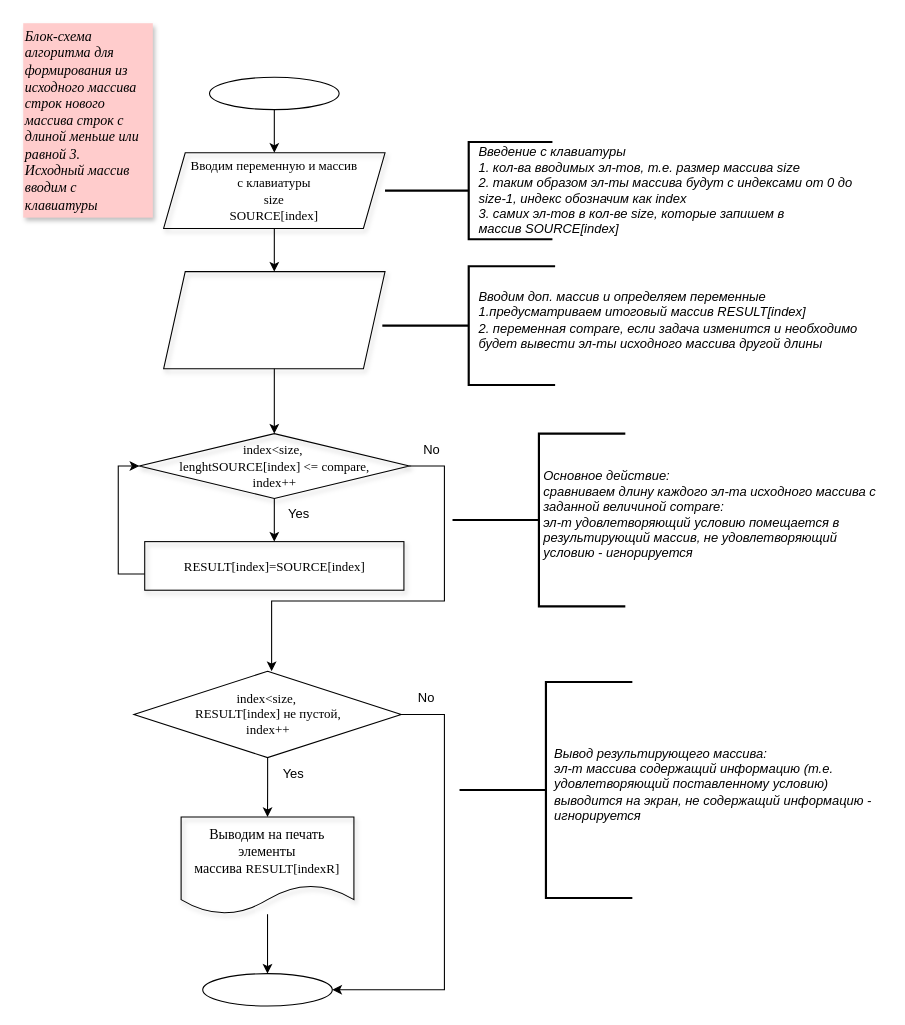
Some shapes in this 905 by 1025 pixel diagram are drawn without their labels. The shapes that lost their labels are listed below. From the top down, each one's centre as x and y in pixels, then its label:
point 273,93: START
point 275,321: Обозначаем переменные и массивы compare=3 indexS=0 RESULT[index]
point 267,989: END
